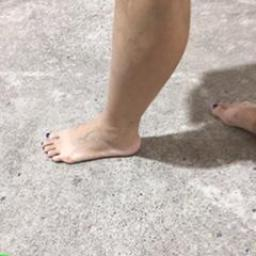Lateral View -Left Foot-: (37, 103, 156, 175)
